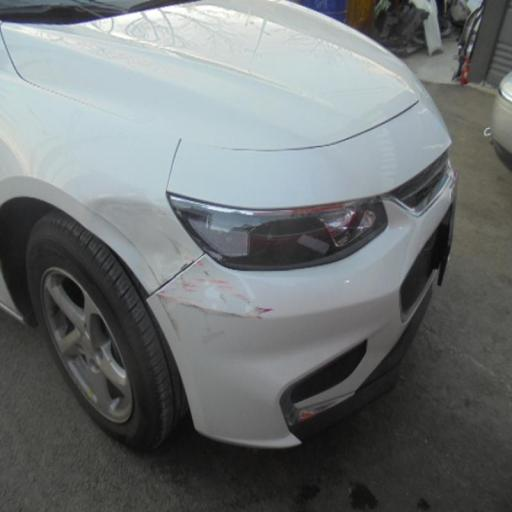scratch: (100, 154, 290, 394)
